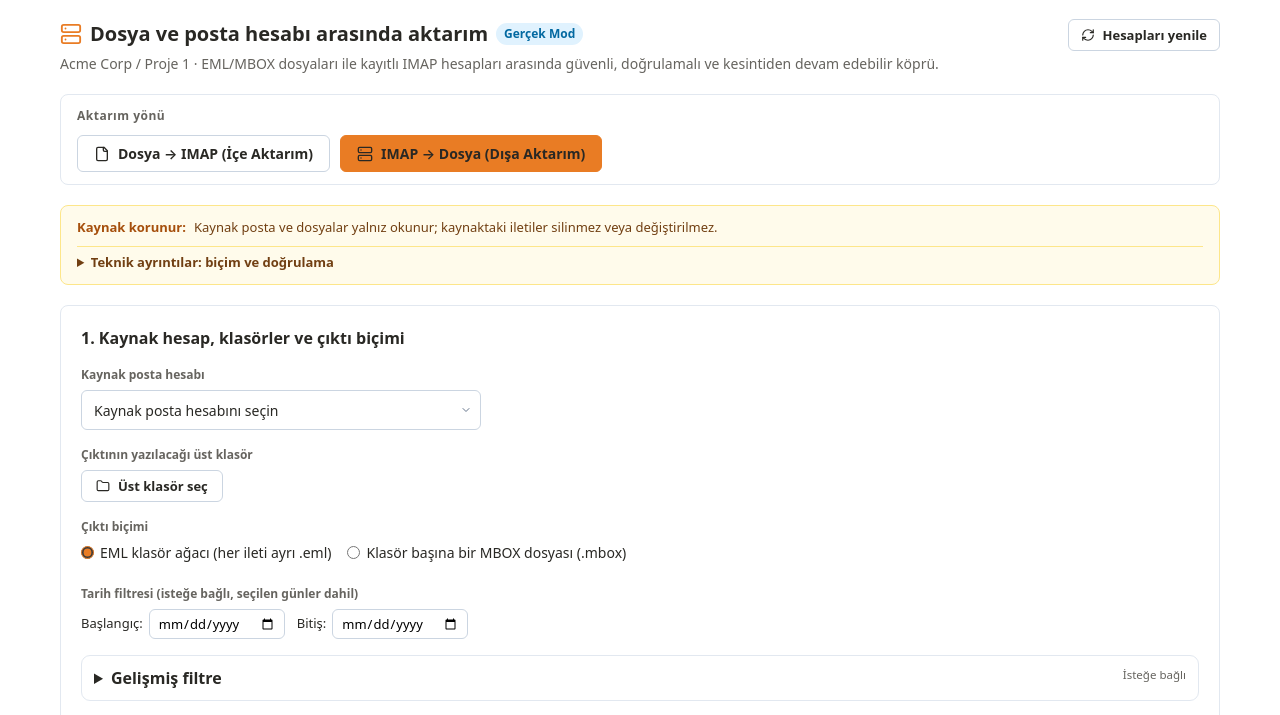
Test case: TASK-017 Bridge Transfer Workflow & UI Integration Tests › 5. BridgeTransferWorkflow Component Rendering & Direction Switching › switches to export form when parent/prop direction changes and suppresses completed import job
// Verify clicking direction button switches back cleanly
Click the button with test id "direction-file-to-imap-btn". click: (204, 154)
box: [77,135,330,172]
(page scrolled)
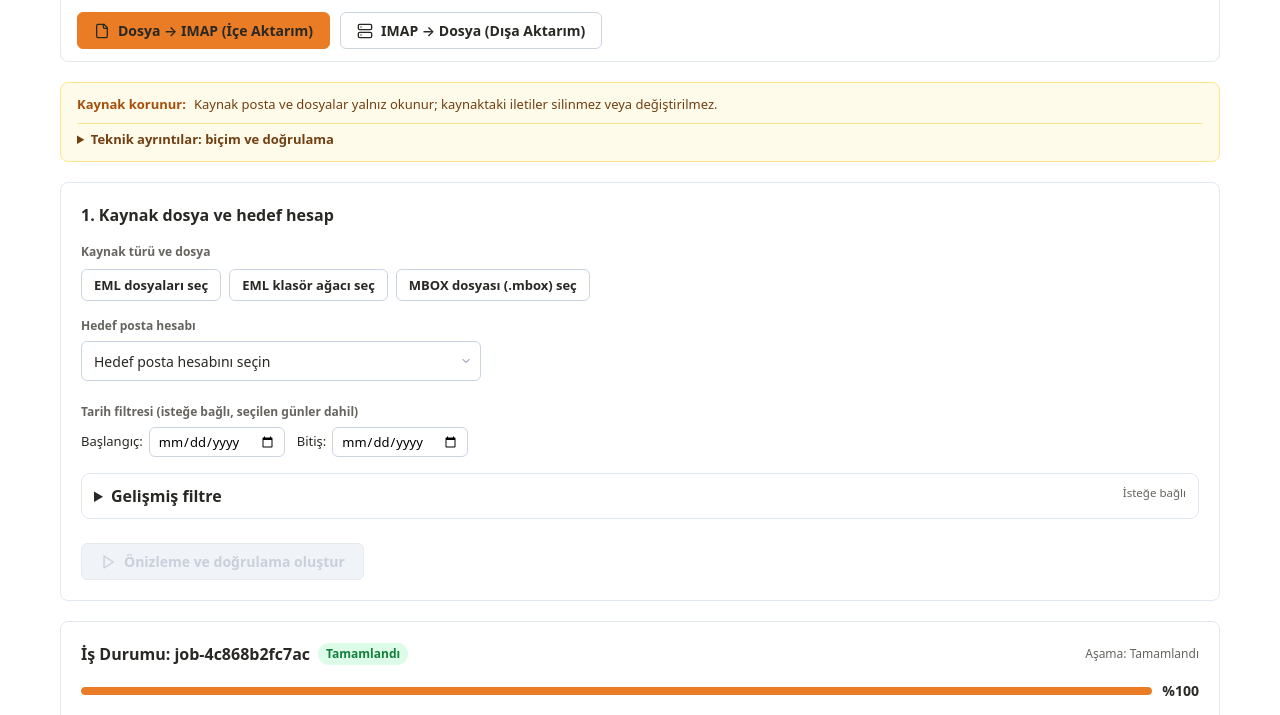
Now the element with test id "bridge-import-form" is shown, box [60,182,1220,601]
